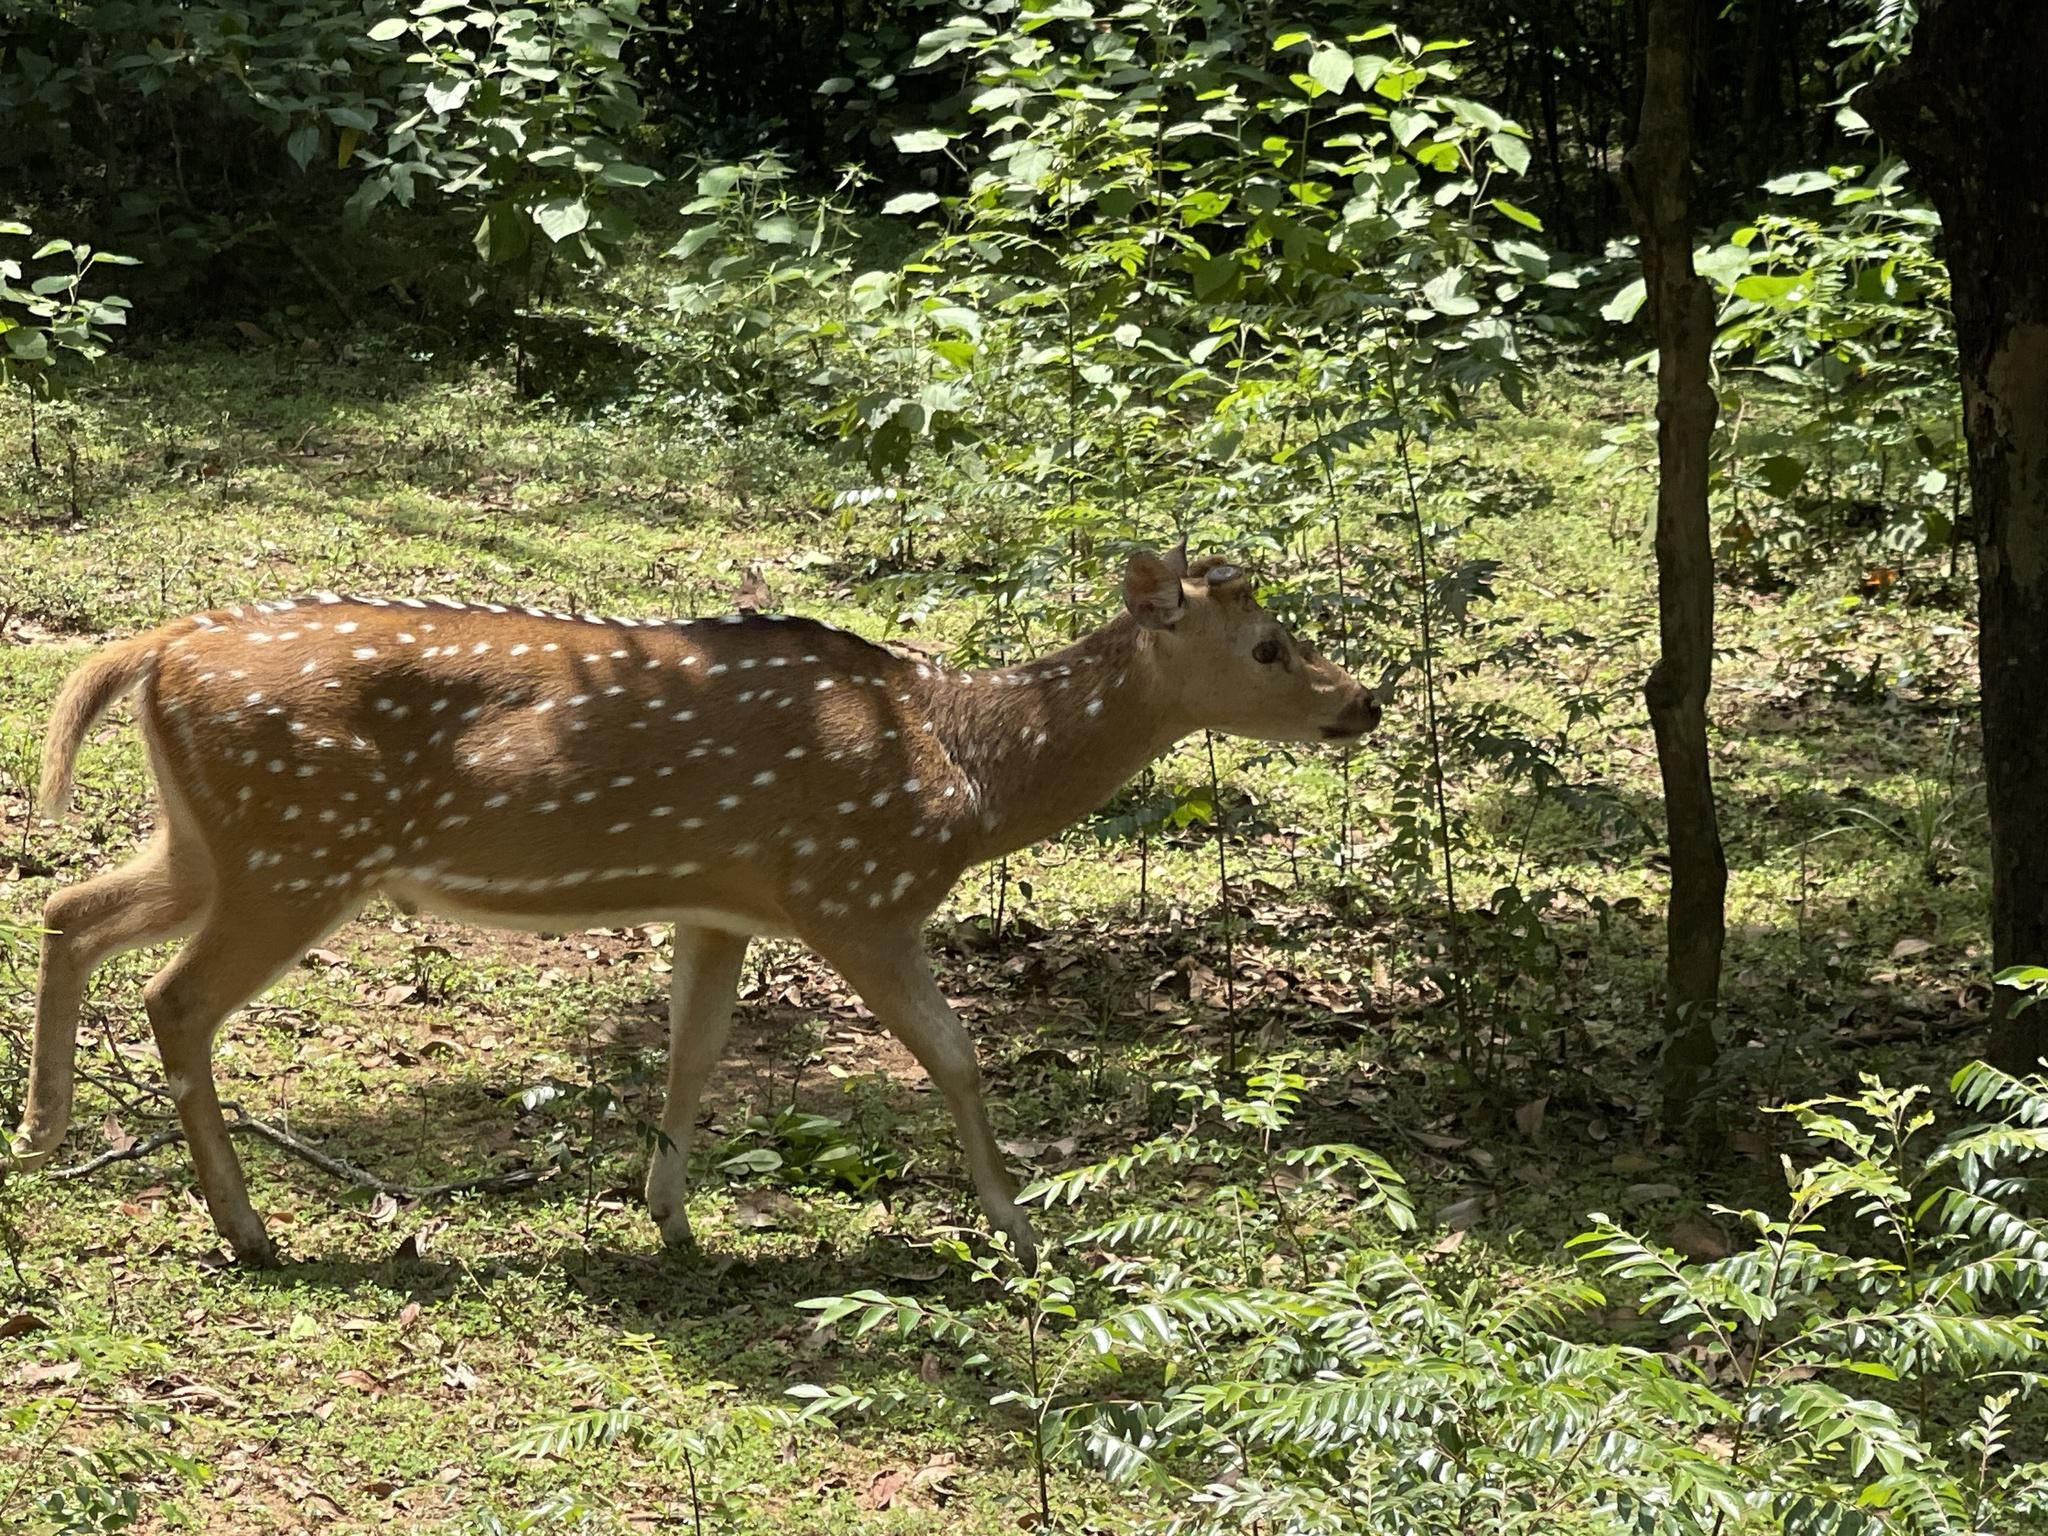Deer: (19, 549, 1380, 1263)
